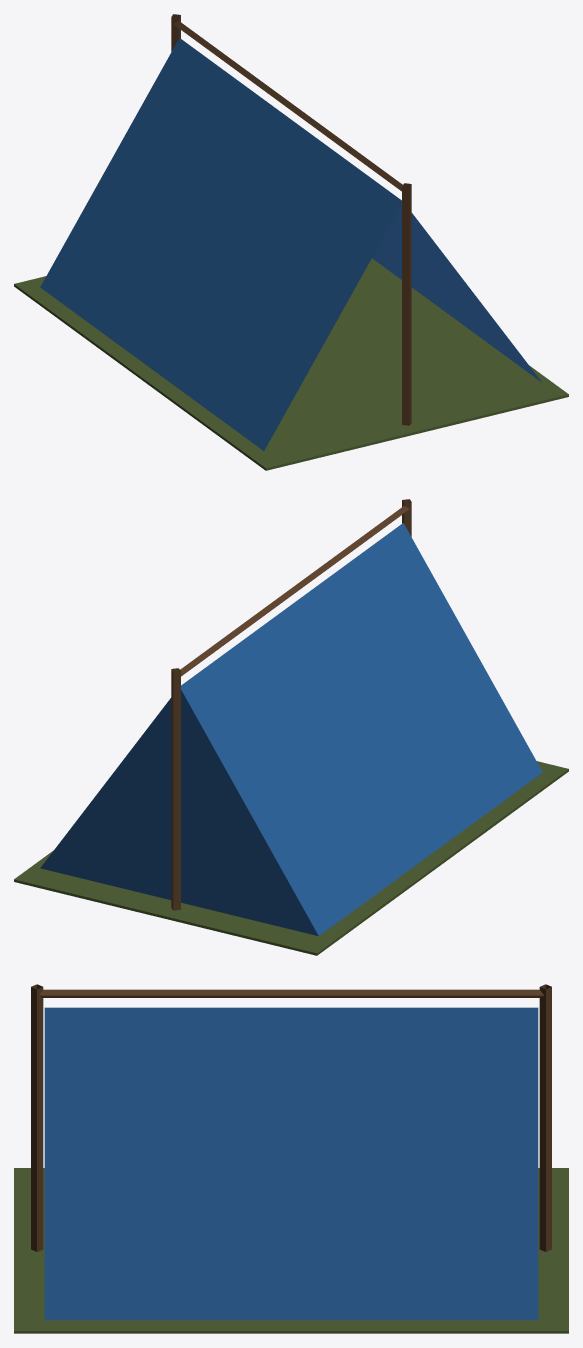
File: fr_tent_lod1.glb
3 views of the same model, one above another, from view 1: azimuth 30°, elevation 25°; view 2: azimuth 150°, elevation 25°; view 3: azimuth 270°, elevation 25° (orthographic). The views are drawn at different scales.
Parts seen in each view (by area): view 1: fr_tent_lod1; view 2: fr_tent_lod1; view 3: fr_tent_lod1.
Boxes of the visible parts, x1,y1,x2,y2 form: fr_tent_lod1: (14, 14, 568, 470); fr_tent_lod1: (14, 499, 568, 955); fr_tent_lod1: (14, 984, 568, 1333).
Size of the model in its own units: 2.5 by 1.9 by 3.6.
